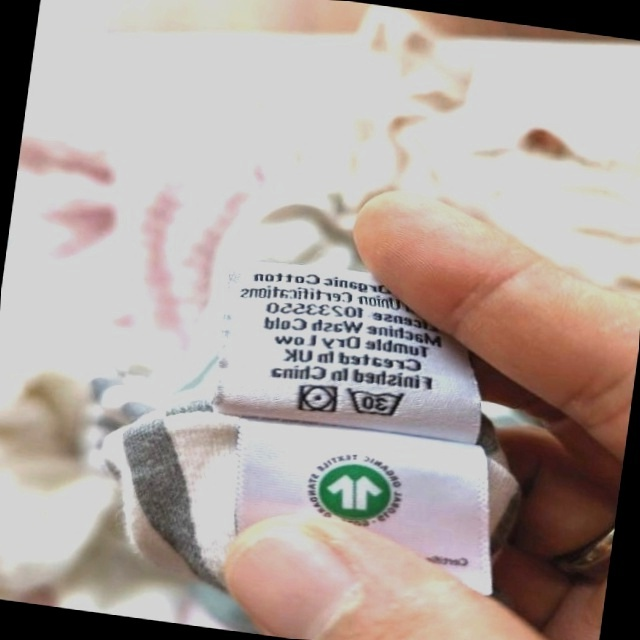30C: (341, 381, 411, 424)
tumble_dry_low: (293, 378, 342, 419)
